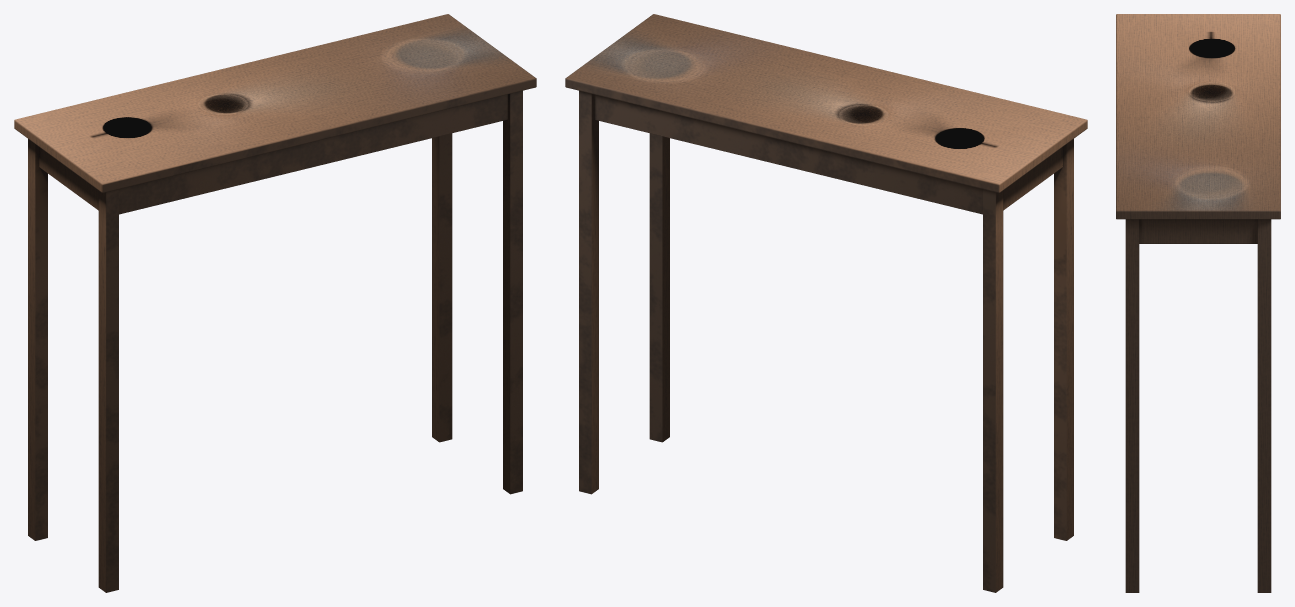
3 views of the same model, side by side, from view 1: azimuth 30°, elevation 25°; view 2: azimuth 150°, elevation 25°; view 3: azimuth 270°, elevation 25° (orthographic). The views are drawn at different scales.
Visible parts, largest first — view 1: Table; view 2: Table; view 3: Table.
Boxes of the visible parts, x1=… form: Table: x1=14, y1=14, x2=536, y2=592; Table: x1=565, y1=14, x2=1087, y2=592; Table: x1=1116, y1=14, x2=1280, y2=592.
Size of what is drawn, in the model's own units: 3.4 by 3.1 by 1.2.
Materials: 1 (1 with a texture image).
